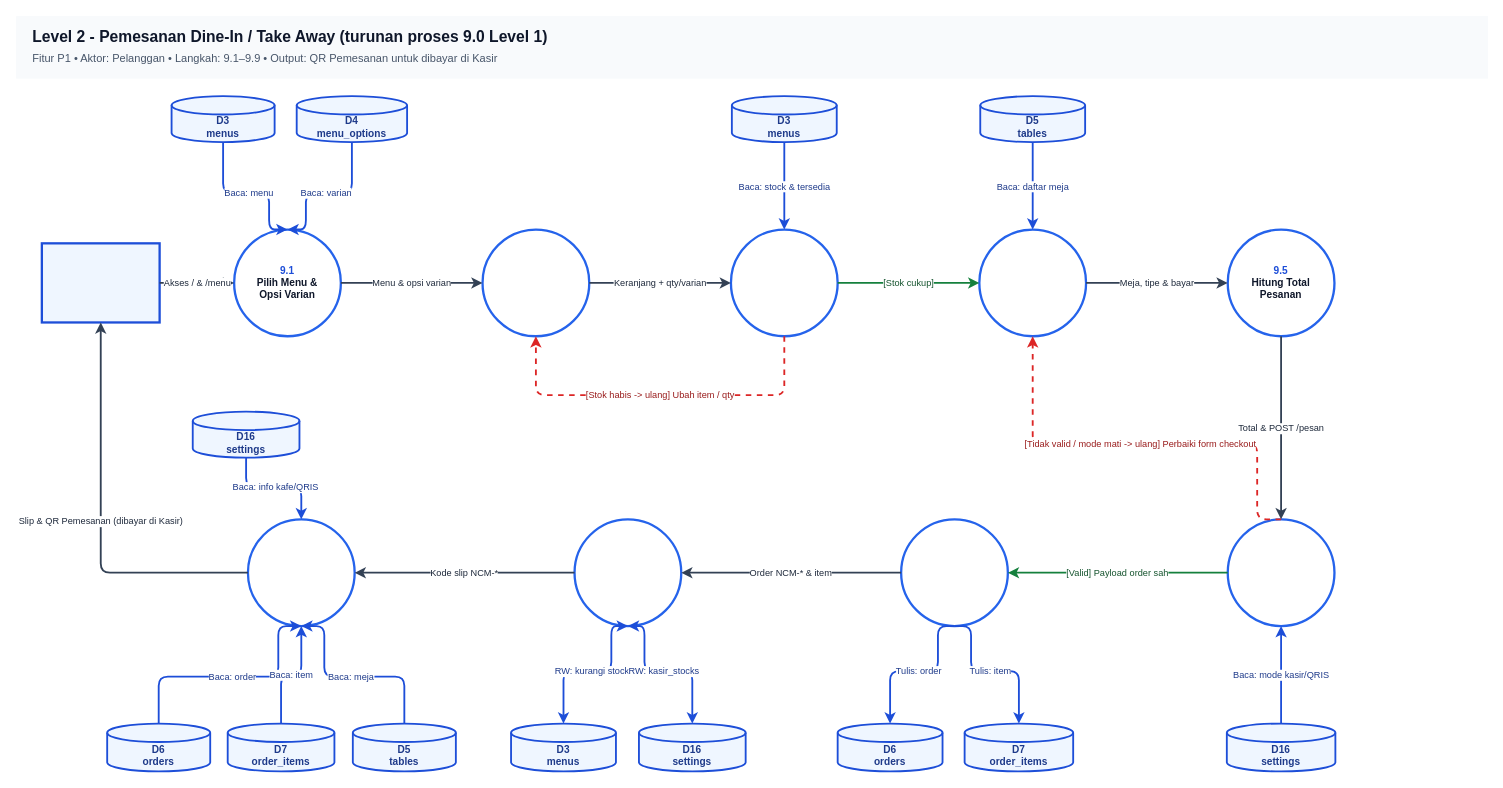
This 1503x788 diagram has some shape labels left out. Each missing label, with the centre of its shape:
"9.2 Isi Keranjang (+ Qty & Varian)" goes at [535,282].
"9.3 Cek Stok & Ketersediaan" goes at [783,282].
"9.4 Checkout, Pilih Meja & Bayar" goes at [1032,282].
"9.6 Validasi Input & Mode Bayar" goes at [1280,572].
"9.7 Simpan Order & Item Pesanan" goes at [954,572].
"9.8 Potong Stok & Sinkron POS" goes at [627,572].
"9.9 Buat & Tampilkan QR Pemesanan" goes at [300,572].
"Pelanggan Tanpa Login" goes at [100,282].
